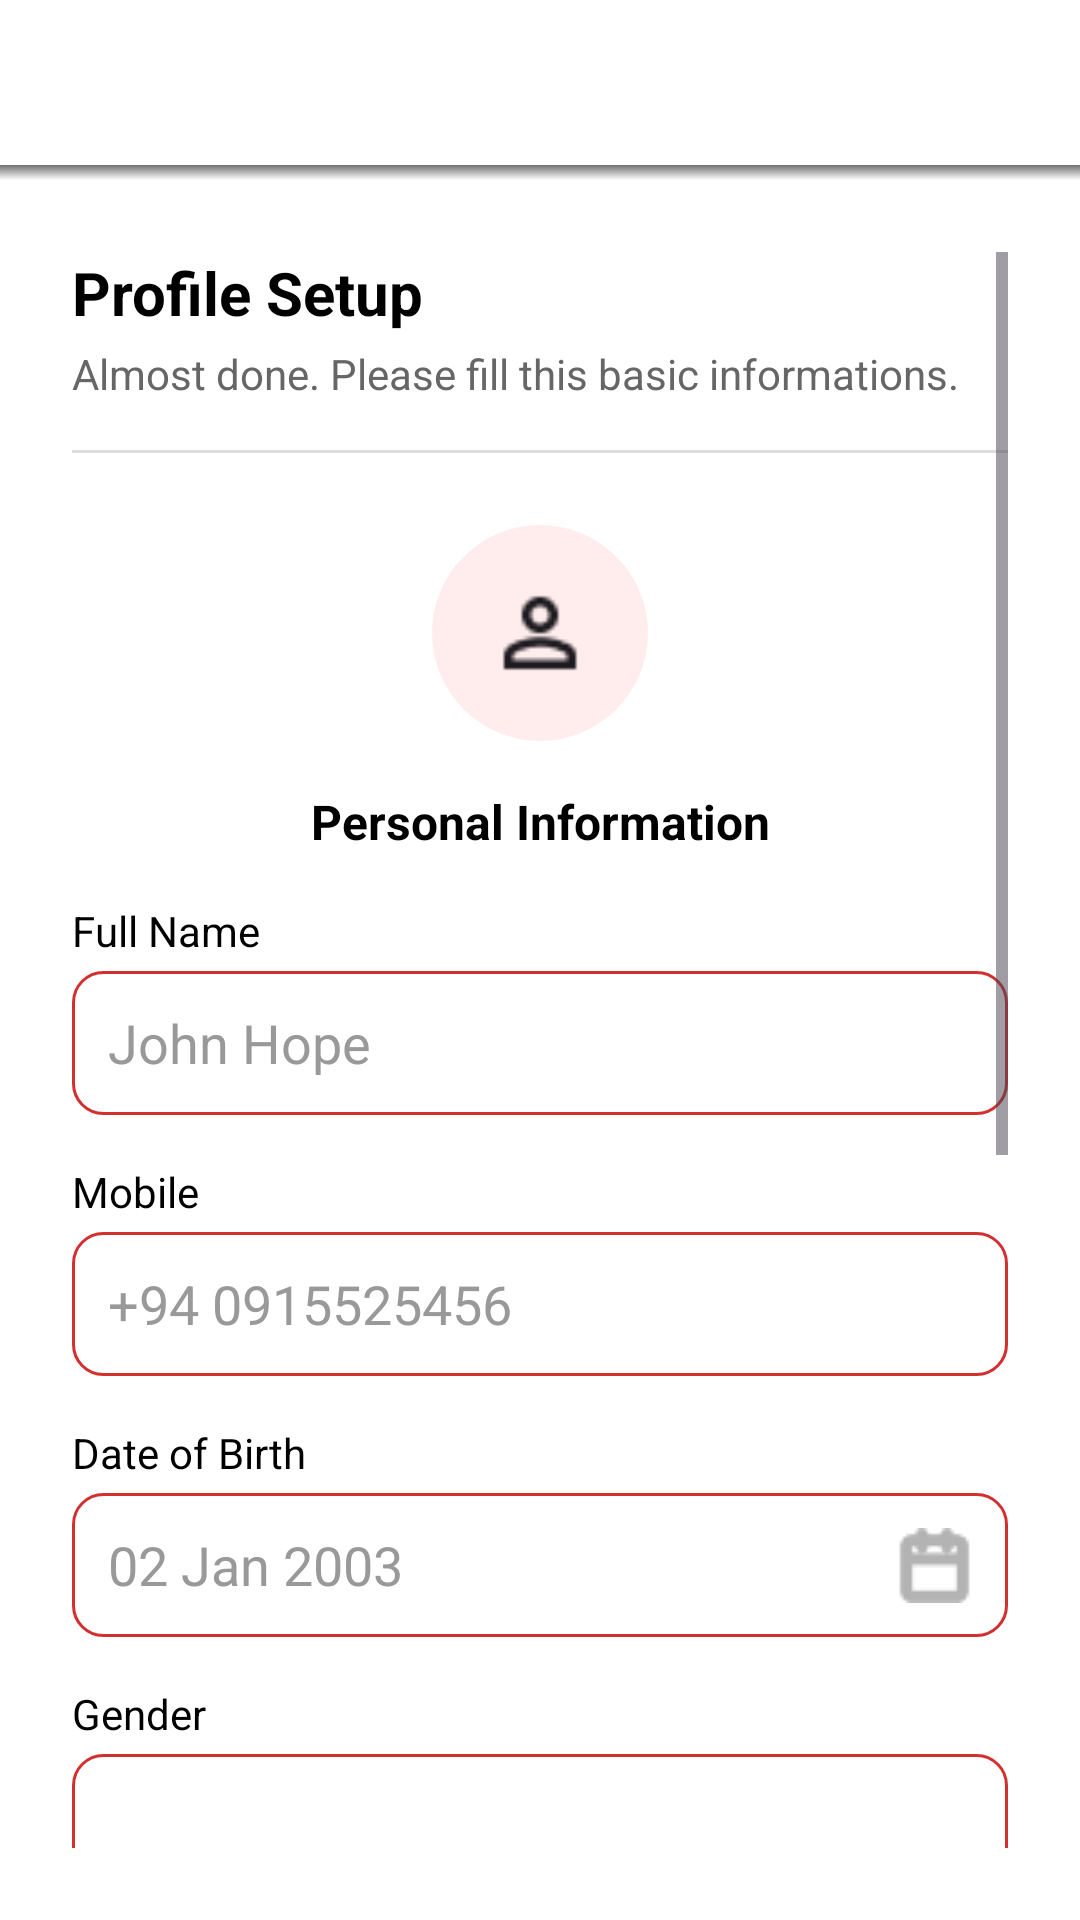

Screen size 1080 × 1920. Icon name, then its box in pixels as (x1, y1, x2, y2):
Person Icon: (502, 595, 578, 671)
